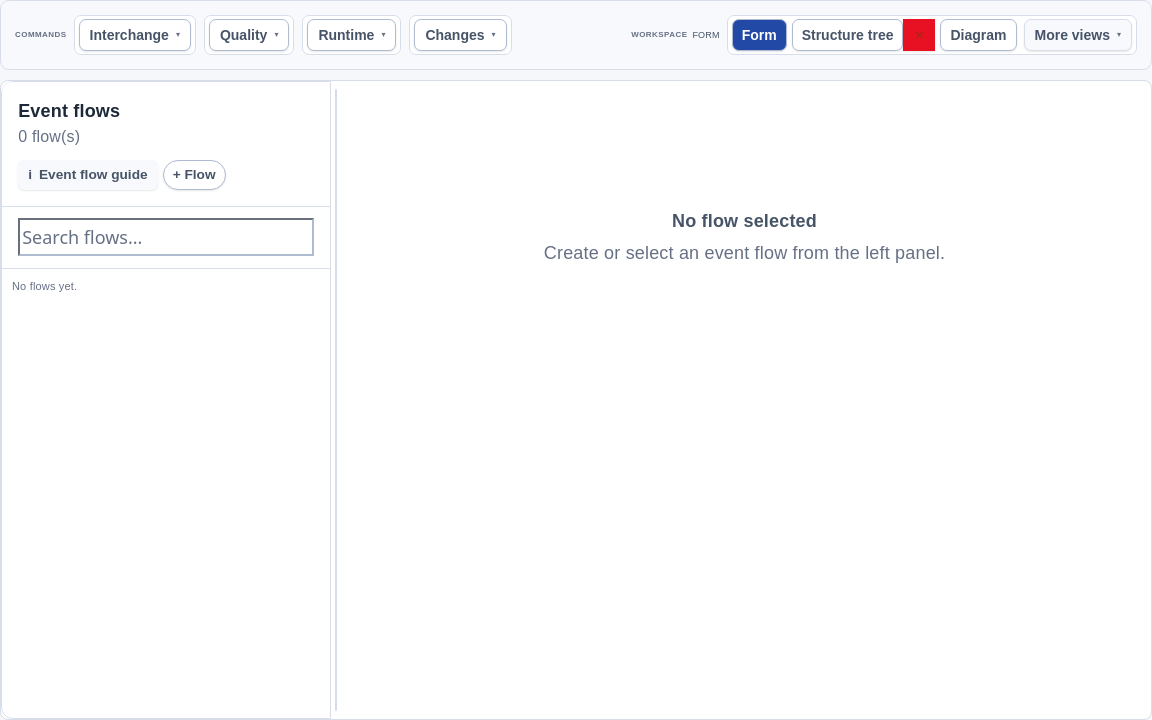
Test: event flow designer forms › opens the event-flow process guide
This screenshot has width=1152, height=720.
Click the button "i Event flow guide".
click(88, 175)  # box top-left (18, 160), bottom-right (158, 190)
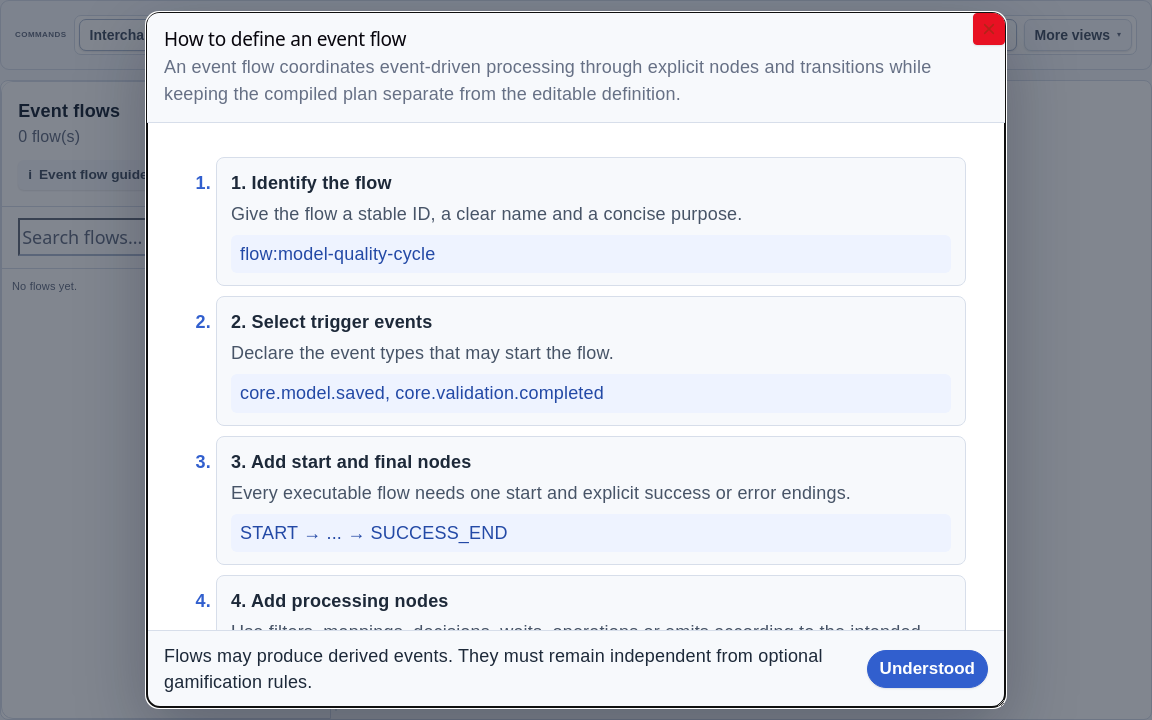
expect the dialog shows "How to define an event flow": met, box top-left (164, 26), bottom-right (406, 52)
